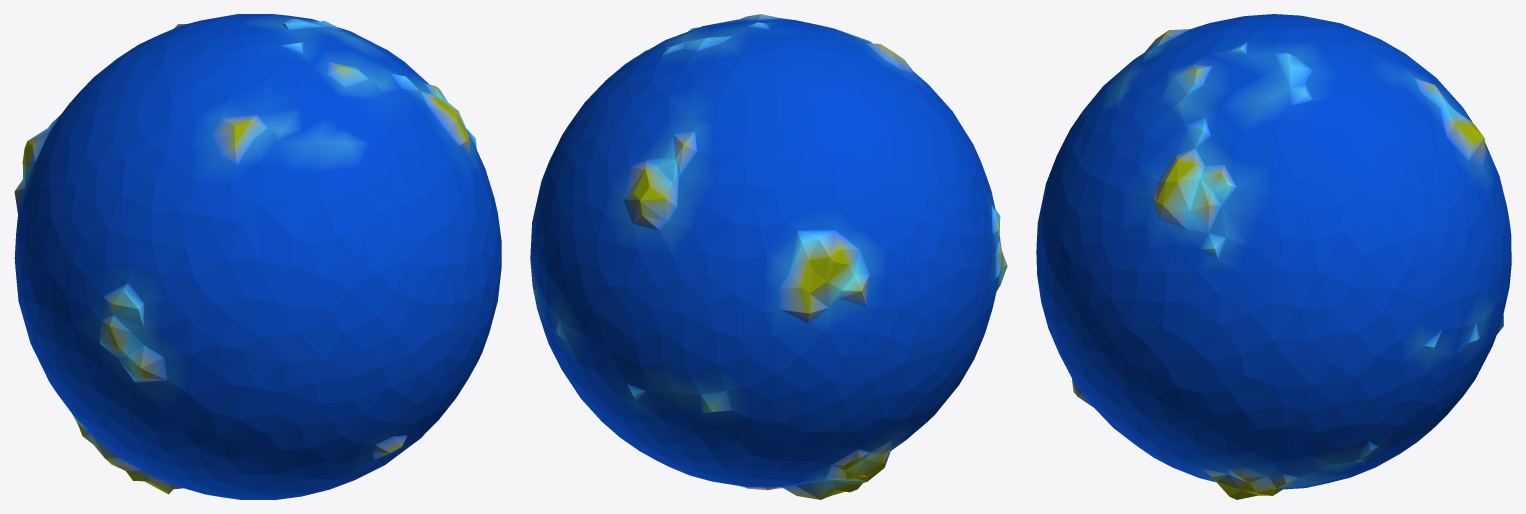
Rendered from planet_38.fbx.
3 views of the same model, side by side, from view 1: azimuth 30°, elevation 25°; view 2: azimuth 150°, elevation 25°; view 3: azimuth 270°, elevation 25° (orthographic). The views are drawn at different scales.
Parts seen in each view (by area): view 1: file1; view 2: file1; view 3: file1.
Part boxes in pixels (left/top/right/bottom): file1: left=14, top=14, right=501, bottom=499; file1: left=530, top=14, right=1007, bottom=499; file1: left=1036, top=14, right=1511, bottom=499.
Size of the model in its own units: 2 by 2.03 by 2.
